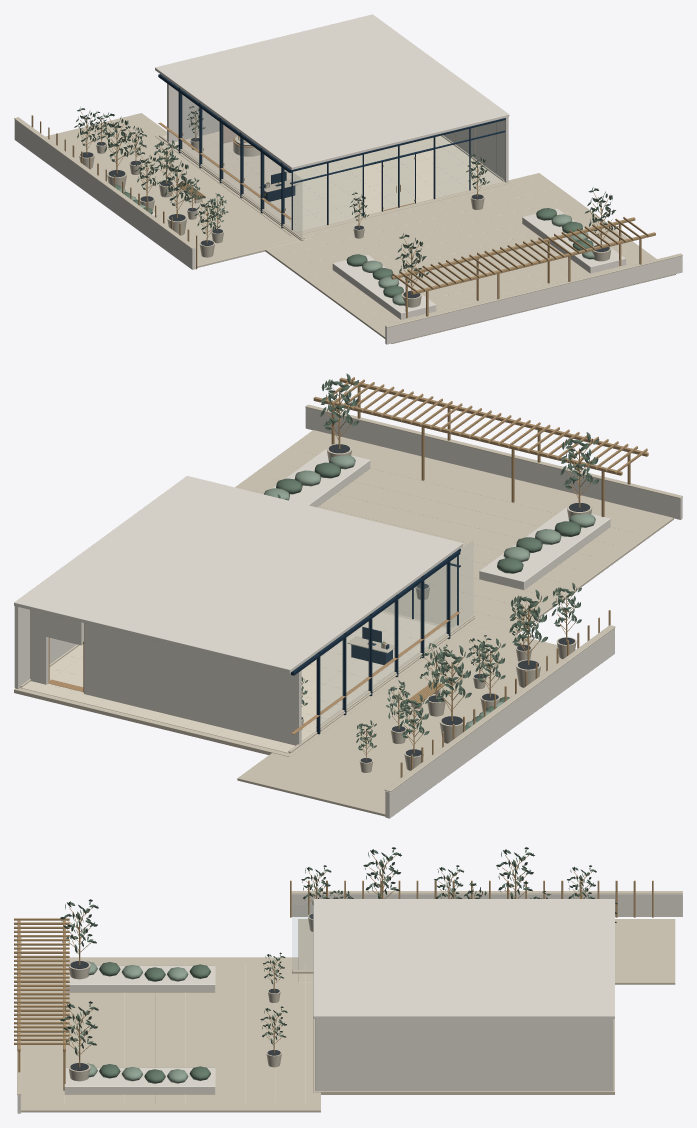
The model's file is samples.glb.
3 renders of one model, top to bottom at view 1: azimuth 30°, elevation 25°; view 2: azimuth 150°, elevation 25°; view 3: azimuth 270°, elevation 25°, orthographic. The views are drawn at different scales.
Visible parts, largest first — view 1: SHOWROOM · samples, Wind in the olive crown (×4); view 2: SHOWROOM · samples, Wind in the olive crown (×7); view 3: SHOWROOM · samples, Wind in the olive crown (×8).
Boxes of the visible parts, box(x1,y1,x2,y2) form: SHOWROOM · samples: box(14, 14, 682, 344); Wind in the olive crown (×4): box(100, 112, 618, 287); SHOWROOM · samples: box(14, 377, 682, 818); Wind in the olive crown (×7): box(320, 373, 599, 745); SHOWROOM · samples: box(14, 861, 682, 1113); Wind in the olive crown (×8): box(60, 847, 596, 1059).
Bounding box in the file's own units: 31 × 6.17 × 44.35.
